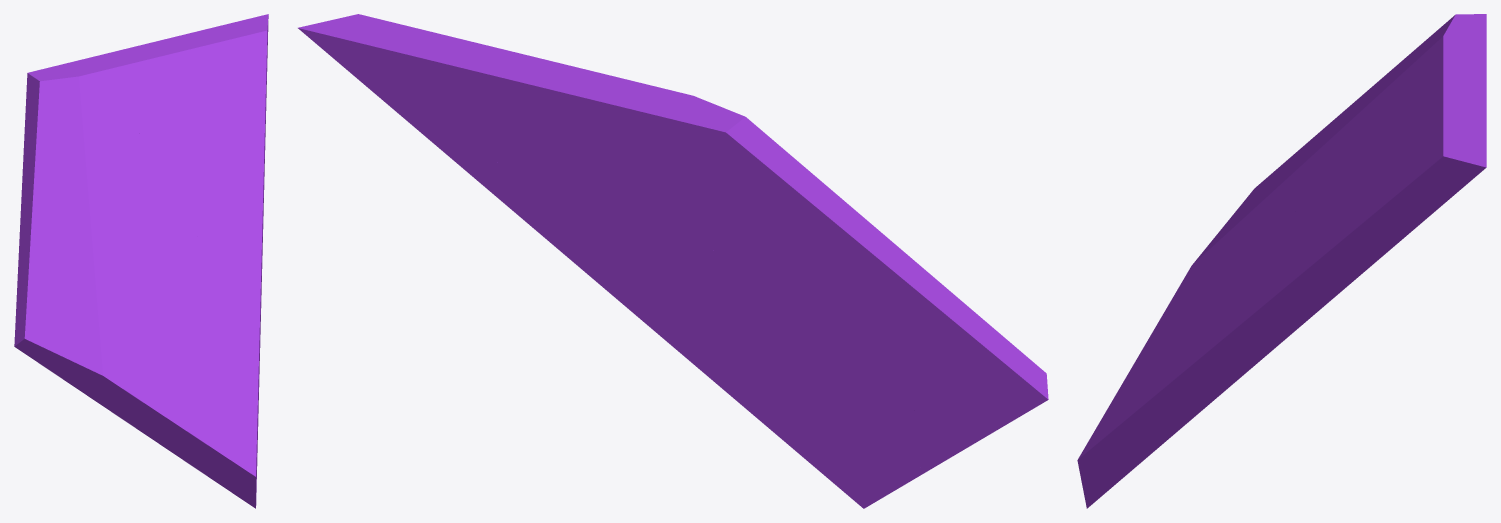
Rendered from Window_97_1_chunks.fbx.
3 views of the same model, side by side, from view 1: azimuth 30°, elevation 25°; view 2: azimuth 150°, elevation 25°; view 3: azimuth 270°, elevation 25° (orthographic). The views are drawn at different scales.
Parts seen in each view (by area): view 1: Window_97_1_1, Window_97_1_0, Window_97_1_6, Window_97_1_7, Window_97_1_4, Window_97_1_3, Window_97_1_8, Window_97_1_9, Window_97_1_5; view 2: Window_97_1_0, Window_97_1_7, Window_97_1_6, Window_97_1_3, Window_97_1_4, Window_97_1_8, Window_97_1_2, Window_97_1_1; view 3: Window_97_1_3, Window_97_1_4, Window_97_1_7, Window_97_1_1, Window_97_1_6, Window_97_1_8, Window_97_1_9, Window_97_1_0, Window_97_1_5.
Boxes of the visible parts, x1,y1,x2,y2 form: Window_97_1_1: [81, 219, 224, 456]; Window_97_1_0: [14, 168, 119, 417]; Window_97_1_6: [25, 36, 196, 140]; Window_97_1_7: [159, 14, 268, 153]; Window_97_1_4: [177, 313, 260, 508]; Window_97_1_3: [184, 121, 265, 334]; Window_97_1_8: [23, 117, 151, 223]; Window_97_1_9: [129, 119, 238, 222]; Window_97_1_5: [152, 198, 225, 331]; Window_97_1_0: [745, 210, 1048, 447]; Window_97_1_7: [298, 14, 667, 228]; Window_97_1_6: [463, 45, 790, 177]; Window_97_1_3: [419, 131, 746, 346]; Window_97_1_4: [673, 342, 924, 508]; Window_97_1_8: [658, 155, 855, 263]; Window_97_1_2: [699, 244, 876, 407]; Window_97_1_1: [843, 361, 967, 472]; Window_97_1_3: [1204, 206, 1400, 393]; Window_97_1_4: [1077, 302, 1221, 508]; Window_97_1_7: [1347, 108, 1486, 240]; Window_97_1_1: [1101, 162, 1318, 419]; Window_97_1_6: [1380, 14, 1486, 130]; Window_97_1_8: [1307, 41, 1424, 197]; Window_97_1_9: [1307, 122, 1392, 219]; Window_97_1_0: [1209, 79, 1380, 243]; Window_97_1_5: [1211, 198, 1321, 320].
Size of the model in its own units: 823 by 796 by 660.
